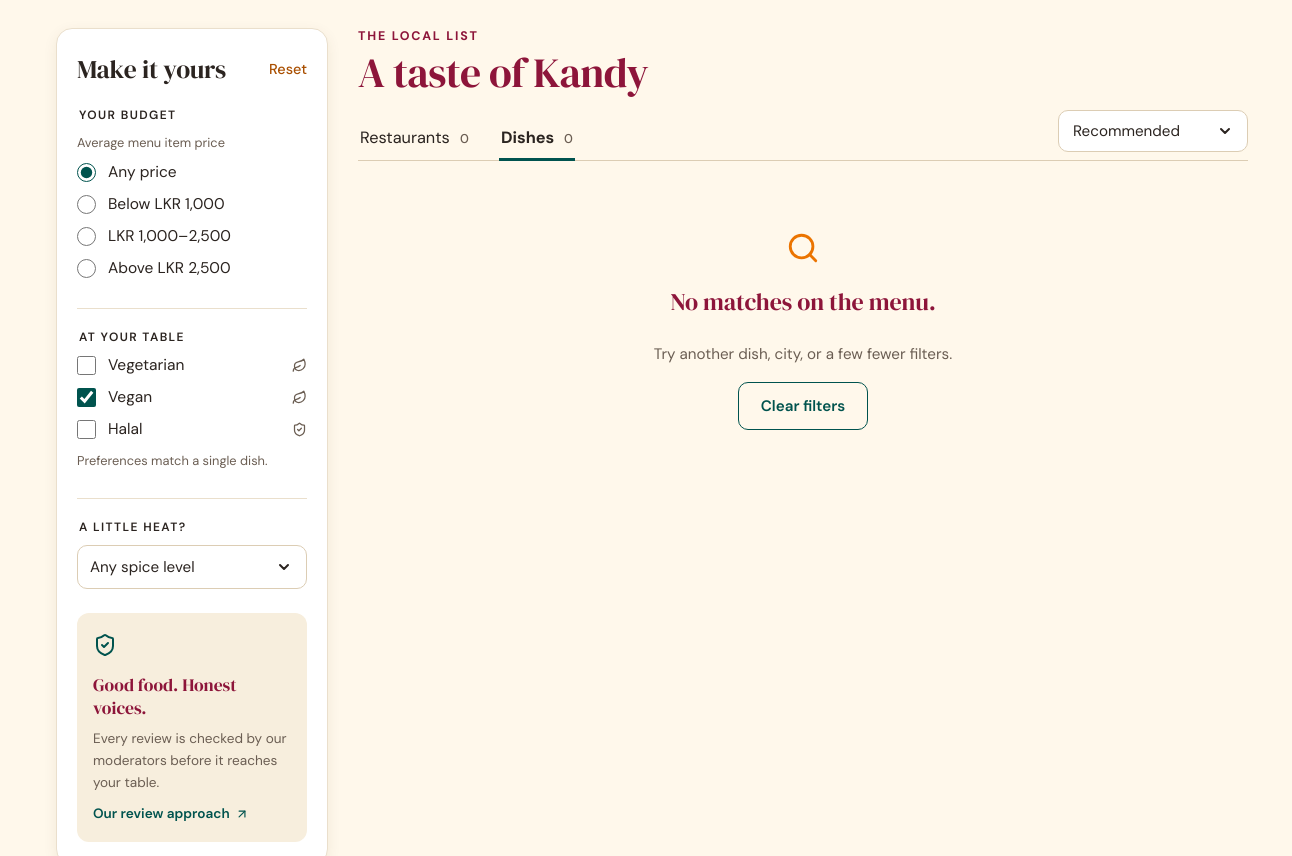
Explore results › shows an empty state that clears filters but keeps the current view
(page scrolled)
Expected: the heading "No matches on the menu." is shown, x1=670 y1=285 x2=936 y2=318
Click the button "Clear filters".
click(803, 406)  # box x1=738 y1=382 x2=868 y2=430
(page scrolled)
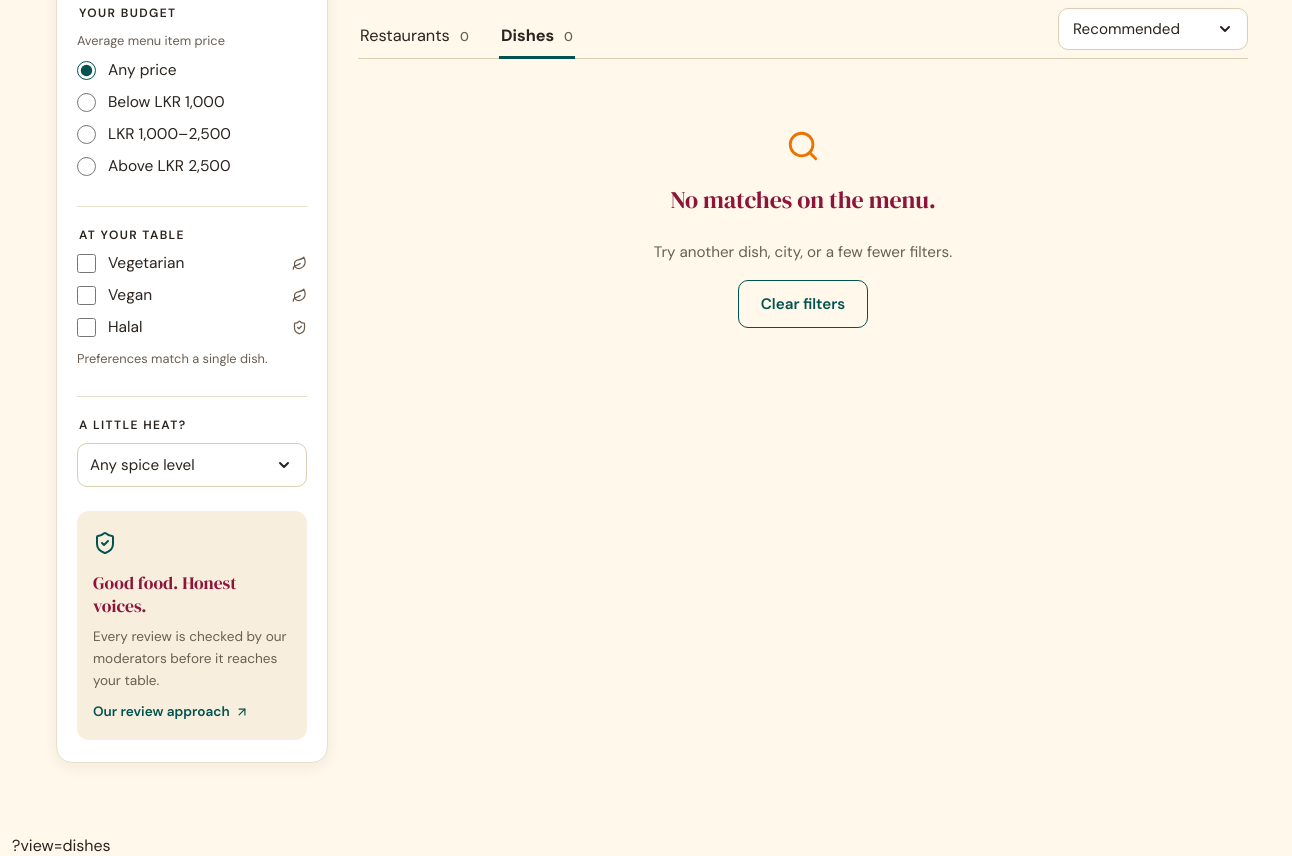
Result: the text named "Current search" reads "?view=dishes" at x1=12 y1=836 x2=111 y2=855
